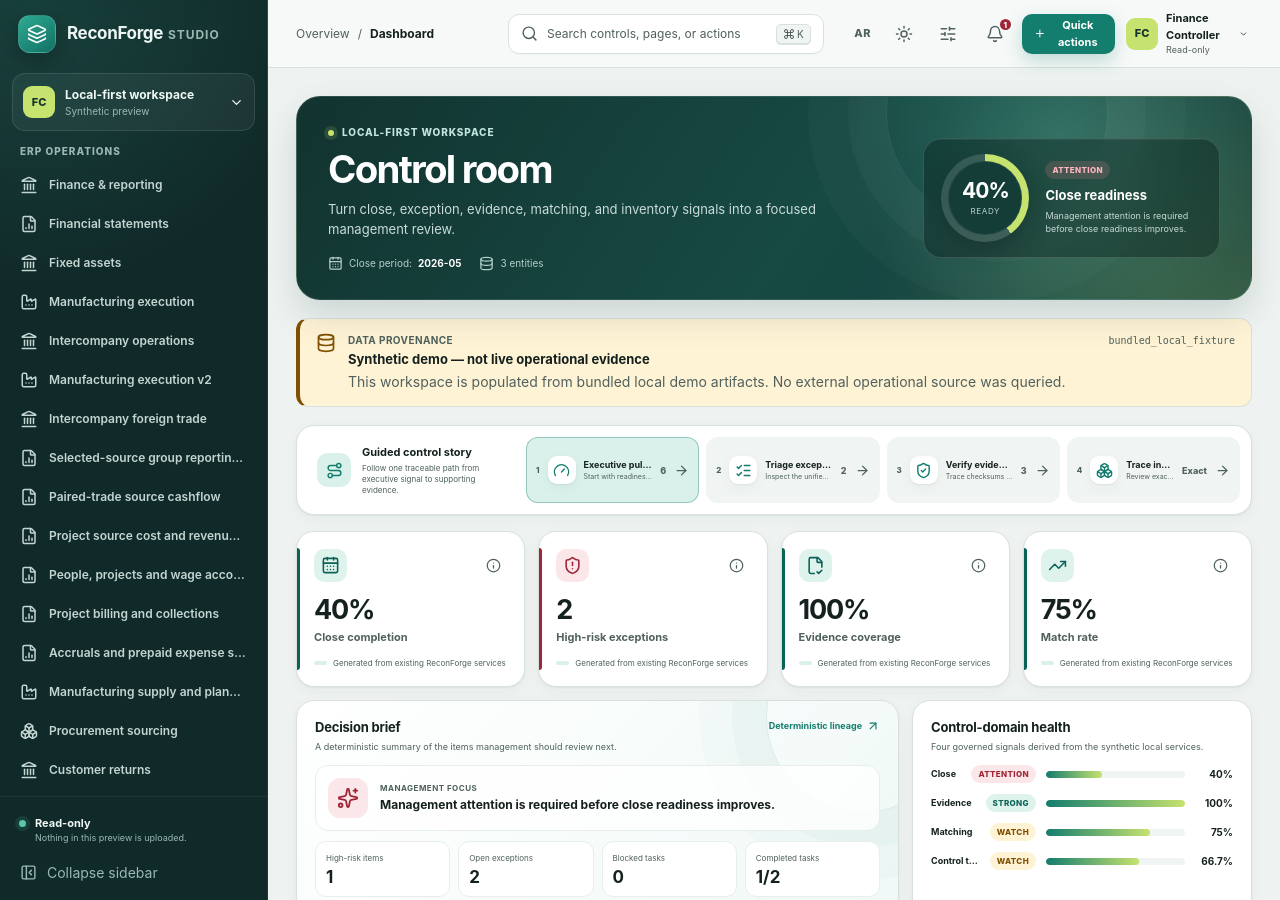
discloses the bounded synthetic workspace
The width and height of the screenshot is (1280, 900).
What coordinates should you click on to do the following:
click the heading named "Workspace details"
I would click on:
 (134, 102)
Its box is [12,73,255,131].
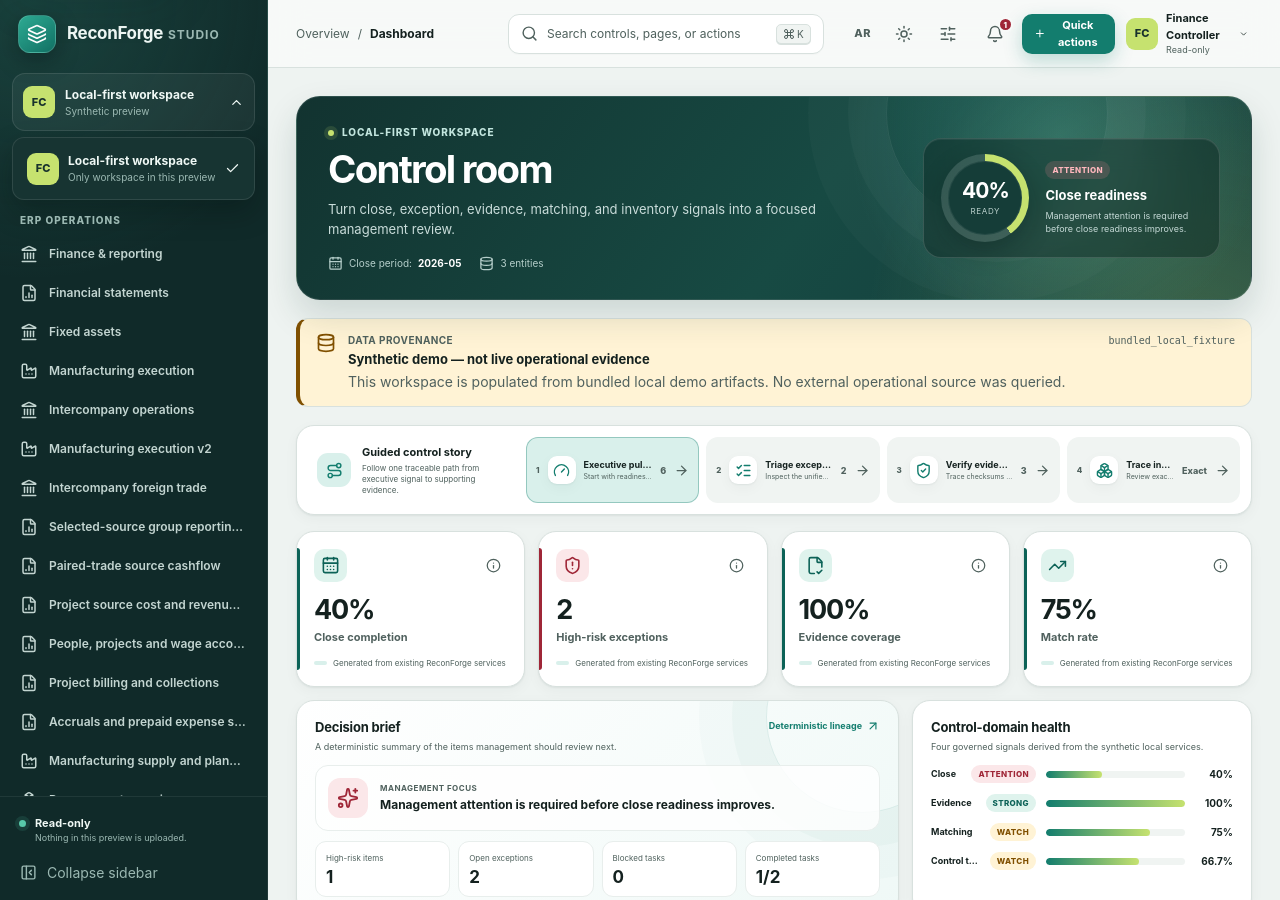
Check: the text "Only workspace in this preview" is shown, box [68,170,216,185]
